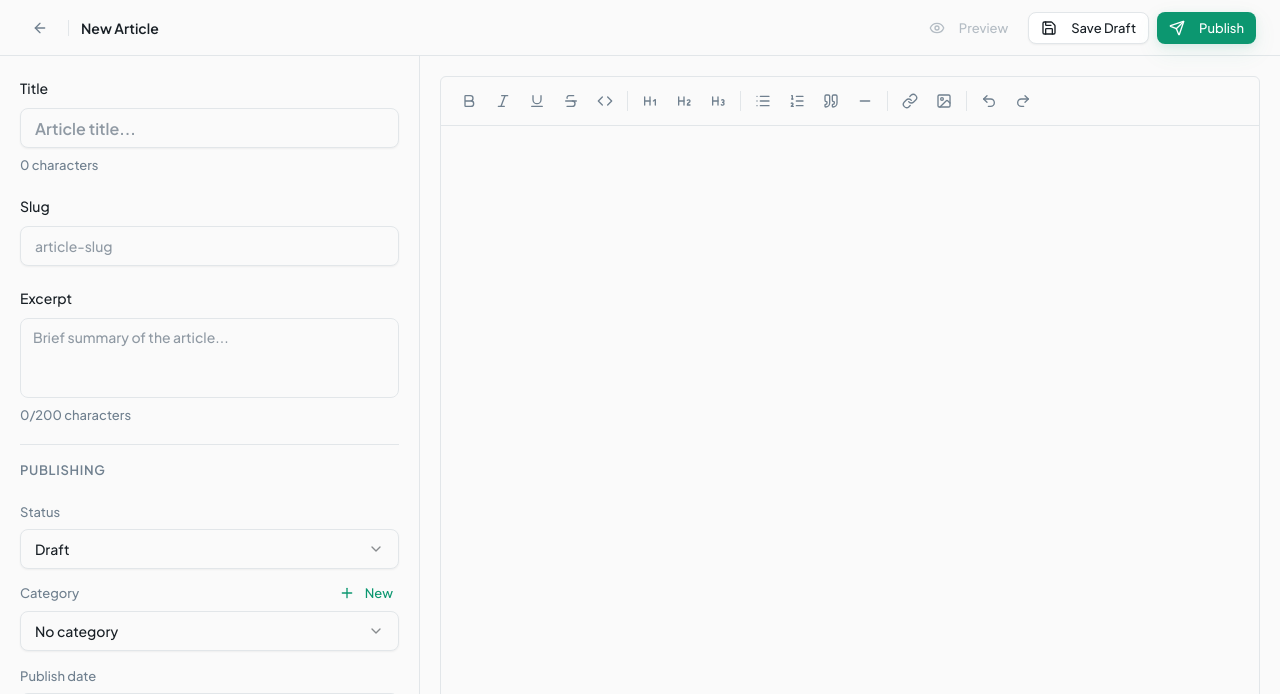
Test: BlogEditorPage (new article) › disables publish when title is empty
Click the button "Publish". click: (1206, 28)
box: [1157,12,1256,44]
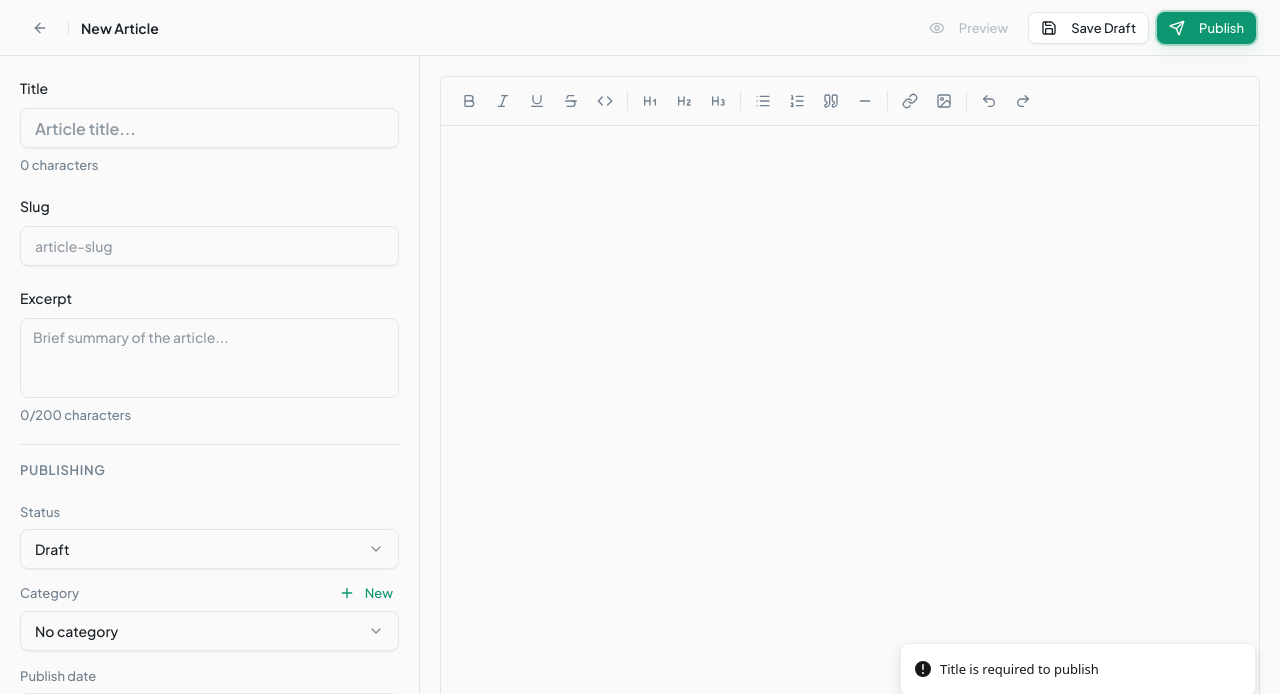
Result: the text "Title is required to publish" is shown at [940,660,1099,679]
